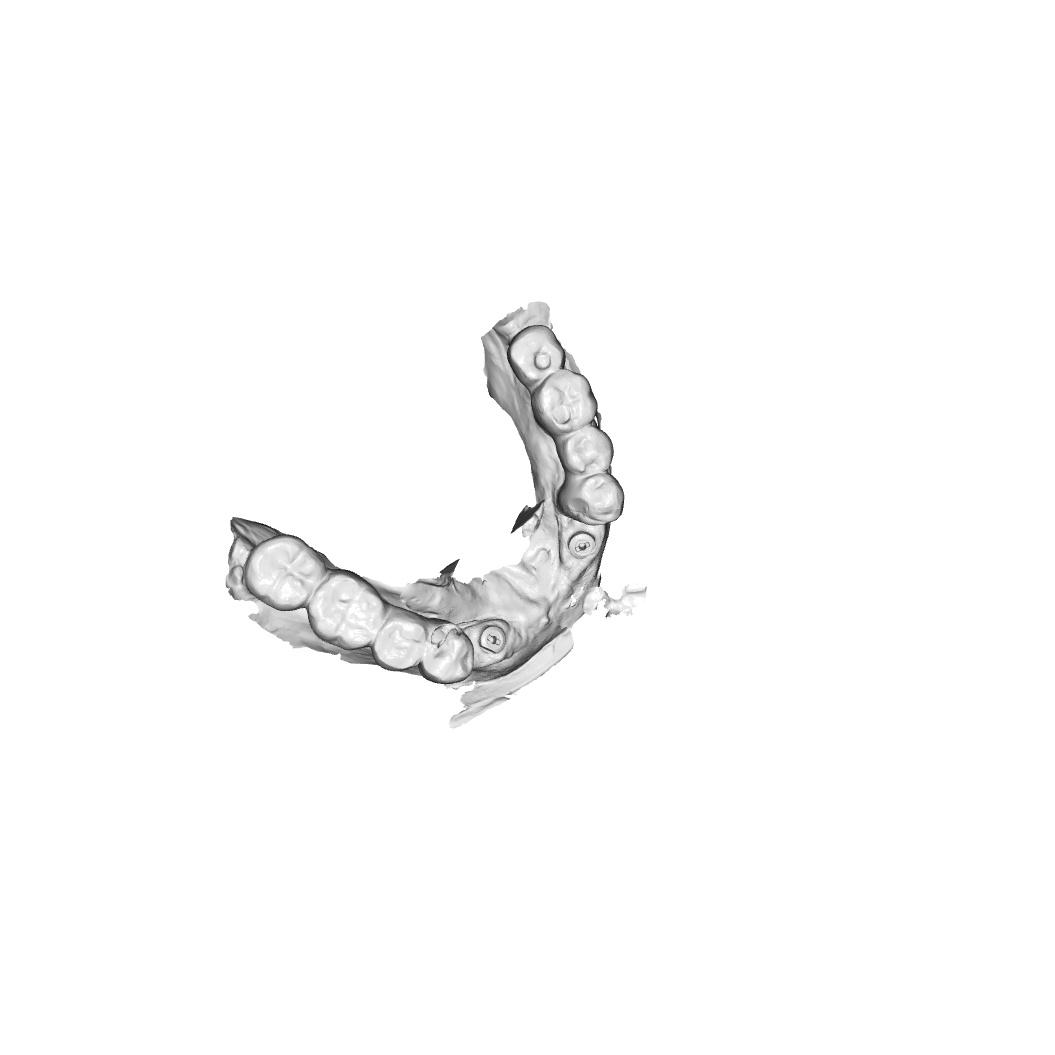implant_minus: (479, 624, 507, 655), (567, 531, 597, 559)
molar: (242, 532, 328, 613), (305, 569, 385, 651), (530, 369, 598, 437), (506, 324, 568, 390)
premolar: (417, 619, 476, 685), (556, 472, 626, 526), (371, 606, 427, 673), (557, 426, 615, 475)
